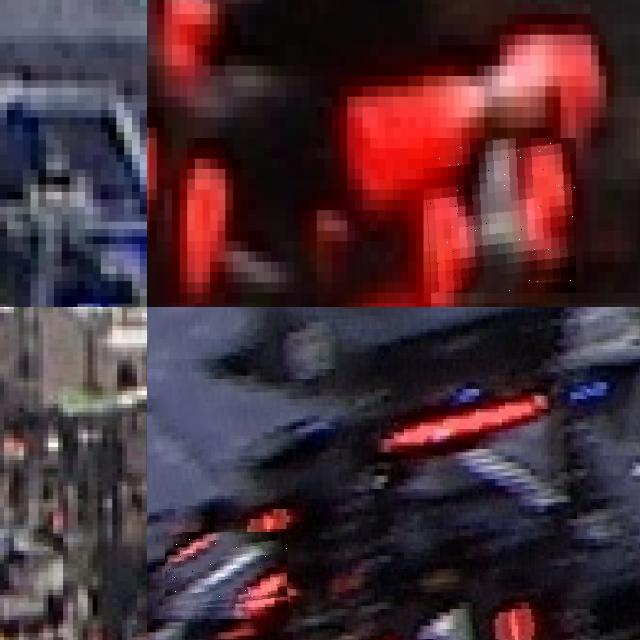R1: (166, 532, 290, 612), (354, 602, 534, 640)
R4: (423, 138, 576, 293)
